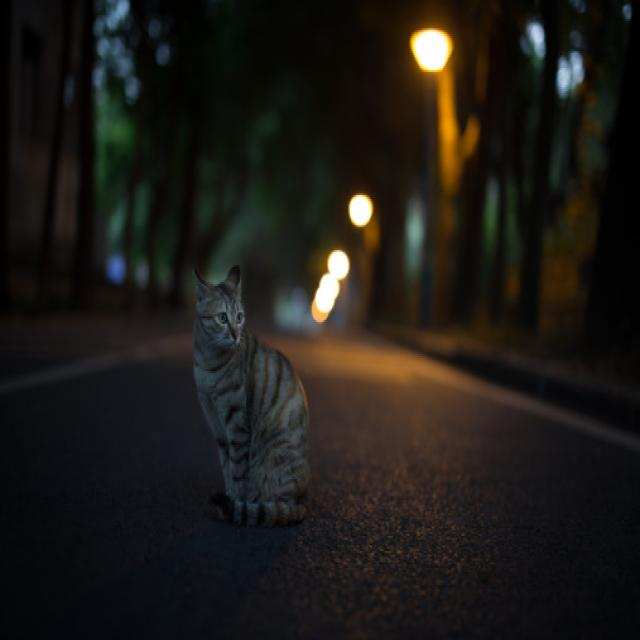Cat: (180, 274, 324, 526)
